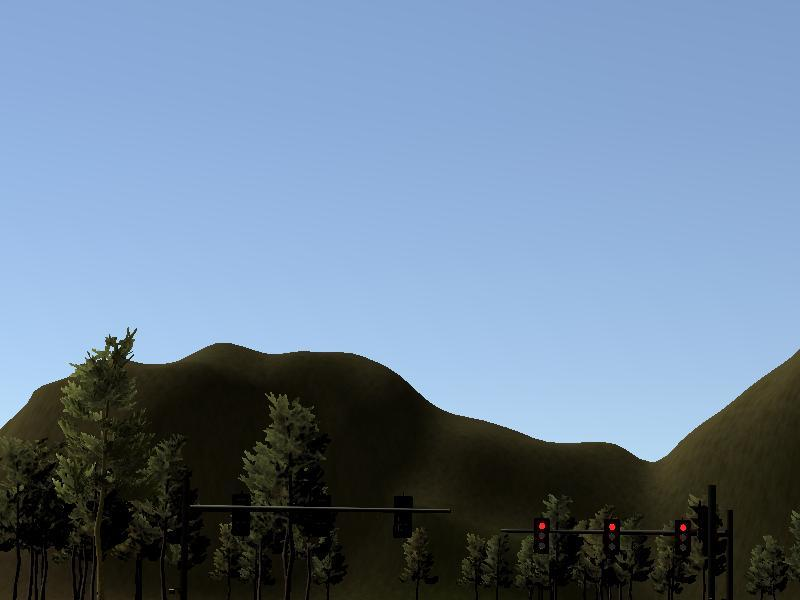Red: (604, 521, 619, 553), (535, 518, 548, 554), (676, 522, 688, 557)
